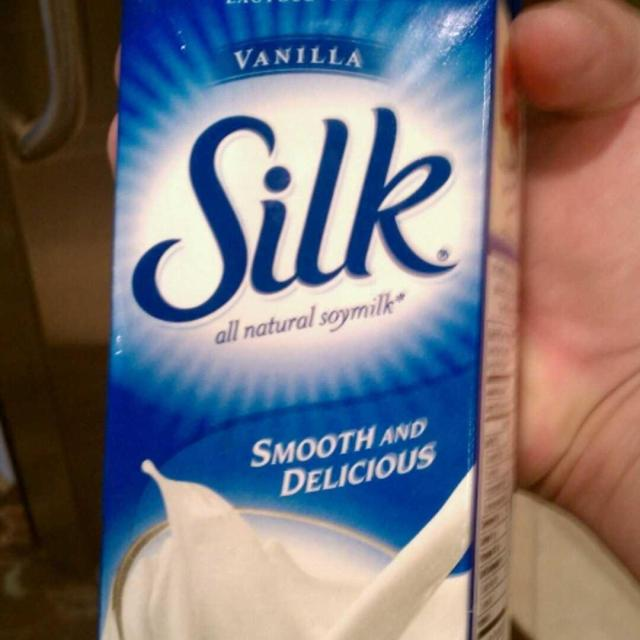drink carton: (98, 0, 524, 640)
